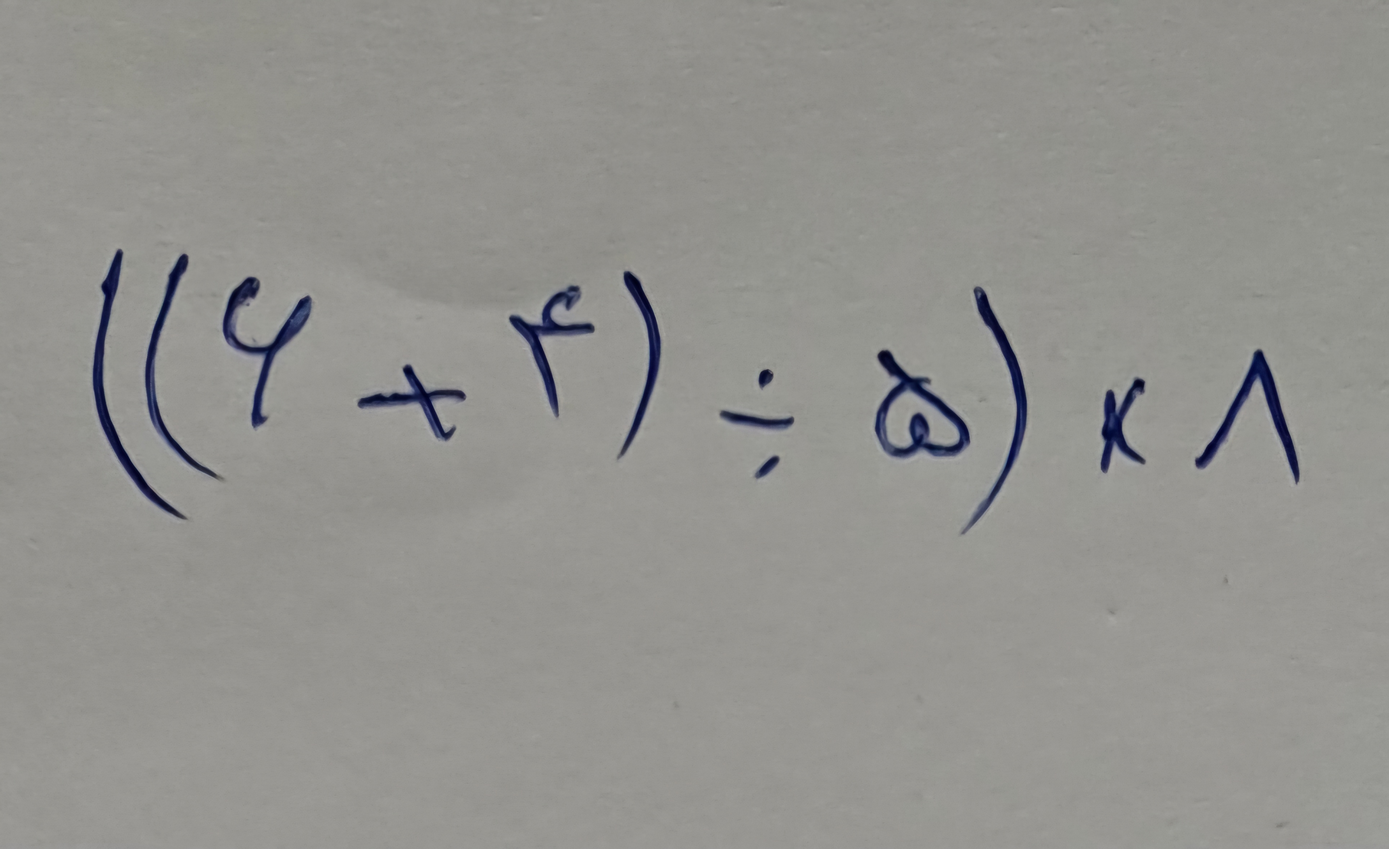character: (92, 248, 188, 525), (949, 289, 1026, 527), (145, 254, 222, 483), (223, 275, 317, 430), (1196, 349, 1295, 492), (508, 283, 611, 417), (871, 347, 970, 459), (615, 274, 662, 469), (357, 366, 464, 443), (721, 367, 792, 482), (1088, 379, 1150, 475)
